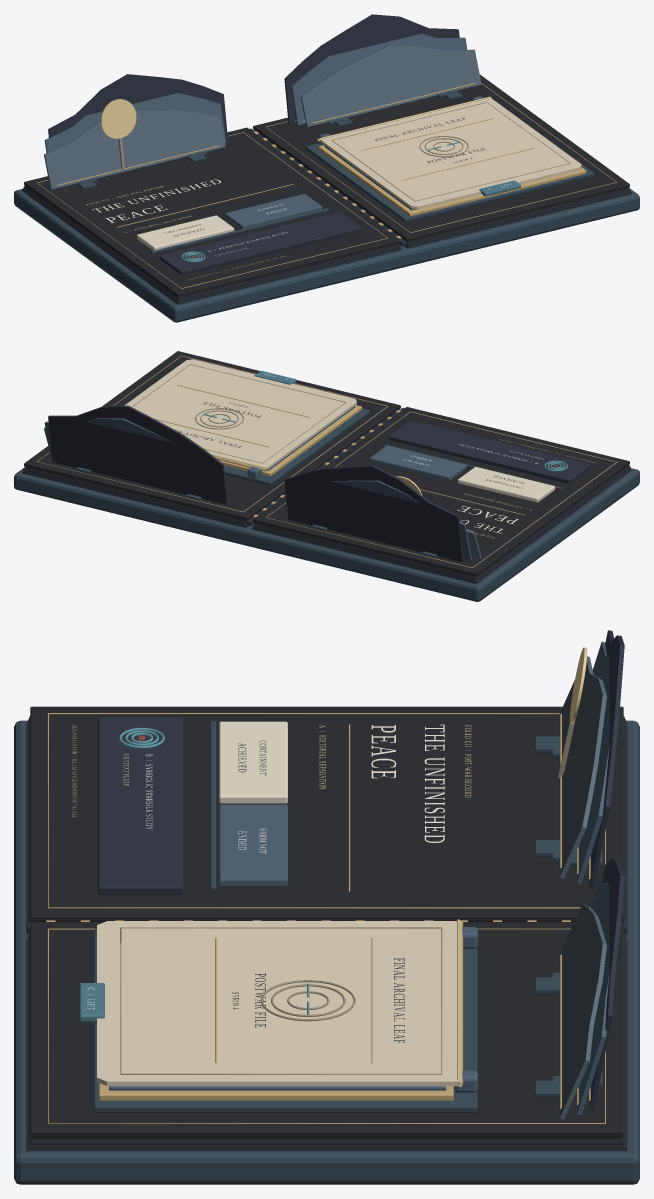
File: palimpsest-f12.glb
3 views of the same model, one above another, from view 1: azimuth 30°, elevation 25°; view 2: azimuth 150°, elevation 25°; view 3: azimuth 270°, elevation 25° (orthographic). The views are drawn at different scales.
Visible parts, largest first — view 1: Dyed-through black page, TouchSurface_C, Dyed-through black page.001, Fabric bound book case, No bridge across the gutter • cut & printed card.005, No bridge across the gutter • cut & printed card.002, TouchTab_B, No bridge across the gutter • cut & printed card.003, No bridge across the gutter • cut & printed card, No bridge across the gutter • cut & printed card.004, No bridge across the gutter • cut & printed card.001, C broad bonded archival pocket footing (+15 smaller); view 2: Dyed-through black page, TouchSurface_C, Fabric bound book case, No bridge across the gutter • cut & printed card.003, No bridge across the gutter • cut & printed card, Dyed-through black page.001, TouchTab_B, TouchTab_A_I, TouchTab_A_II, C broad bonded archival pocket footing, No bridge across the gutter • cut & printed card.001, C thick wheat archival pocket (+15 smaller); view 3: Dyed-through black page, TouchSurface_C, Dyed-through black page.001, Fabric bound book case, TouchTab_B, C broad bonded archival pocket footing, No bridge across the gutter • cut & printed card.005, No bridge across the gutter • cut & printed card.002, TouchTab_A_I, TouchTab_A_II, C thick wheat archival pocket, Pressed page edge.006 (+17 smaller).
Part boxes in pixels (x1,y1,x2,y2): Dyed-through black page: (24, 127, 400, 297); TouchSurface_C: (319, 98, 581, 209); Dyed-through black page.001: (253, 74, 629, 241); Fabric bound book case: (14, 188, 639, 322); No bridge across the gutter • cut & printed card.005: (301, 45, 481, 126); No bridge across the gutter • cut & printed card.002: (44, 110, 225, 189); TouchTab_B: (159, 212, 361, 275); No bridge across the gutter • cut & printed card.003: (284, 14, 459, 124); No bridge across the gutter • cut & printed card: (48, 74, 227, 139); No bridge across the gutter • cut & printed card.004: (291, 33, 467, 125); No bridge across the gutter • cut & printed card.001: (44, 93, 225, 153); C broad bonded archival pocket footing: (305, 100, 594, 222); Dyed-through black page: (253, 407, 629, 576); TouchSurface_C: (125, 359, 356, 469); Fabric bound book case: (14, 467, 639, 601); No bridge across the gutter • cut & printed card.003: (48, 405, 227, 504); No bridge across the gutter • cut & printed card: (284, 465, 463, 562); Dyed-through black page.001: (24, 351, 400, 520); TouchTab_B: (388, 420, 590, 483); TouchTab_A_I: (458, 467, 555, 502); TouchTab_A_II: (369, 445, 466, 480); C broad bonded archival pocket footing: (124, 364, 369, 485); No bridge across the gutter • cut & printed card.001: (330, 480, 471, 560); C thick wheat archival pocket: (219, 405, 361, 476); Dyed-through black page: (30, 706, 623, 922); TouchSurface_C: (97, 921, 460, 1086); Dyed-through black page.001: (30, 922, 623, 1137); Fabric bound book case: (14, 720, 639, 1184); TouchTab_B: (98, 717, 183, 894); C broad bonded archival pocket footing: (94, 928, 477, 1112); No bridge across the gutter • cut & printed card.005: (559, 904, 606, 1119); No bridge across the gutter • cut & printed card.002: (559, 656, 606, 878); TouchTab_A_I: (219, 721, 287, 803); TouchTab_A_II: (219, 804, 287, 886); C thick wheat archival pocket: (99, 1083, 453, 1100); Pressed page edge.006: (26, 939, 627, 1151).
Bounding box in the file's own units: 8.31 × 1.84 × 5.01.
